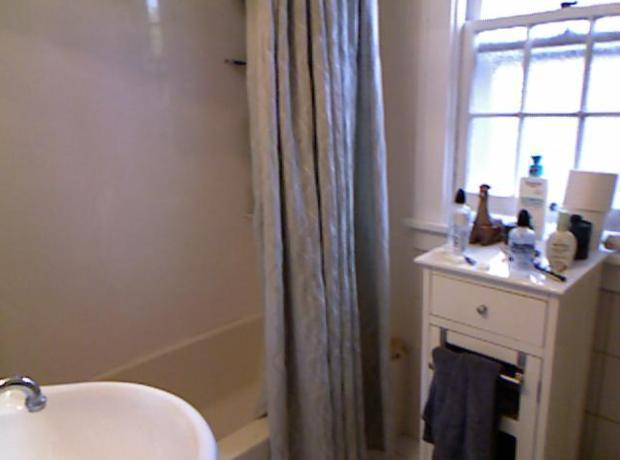Lavamanos: (0, 361, 218, 458)
